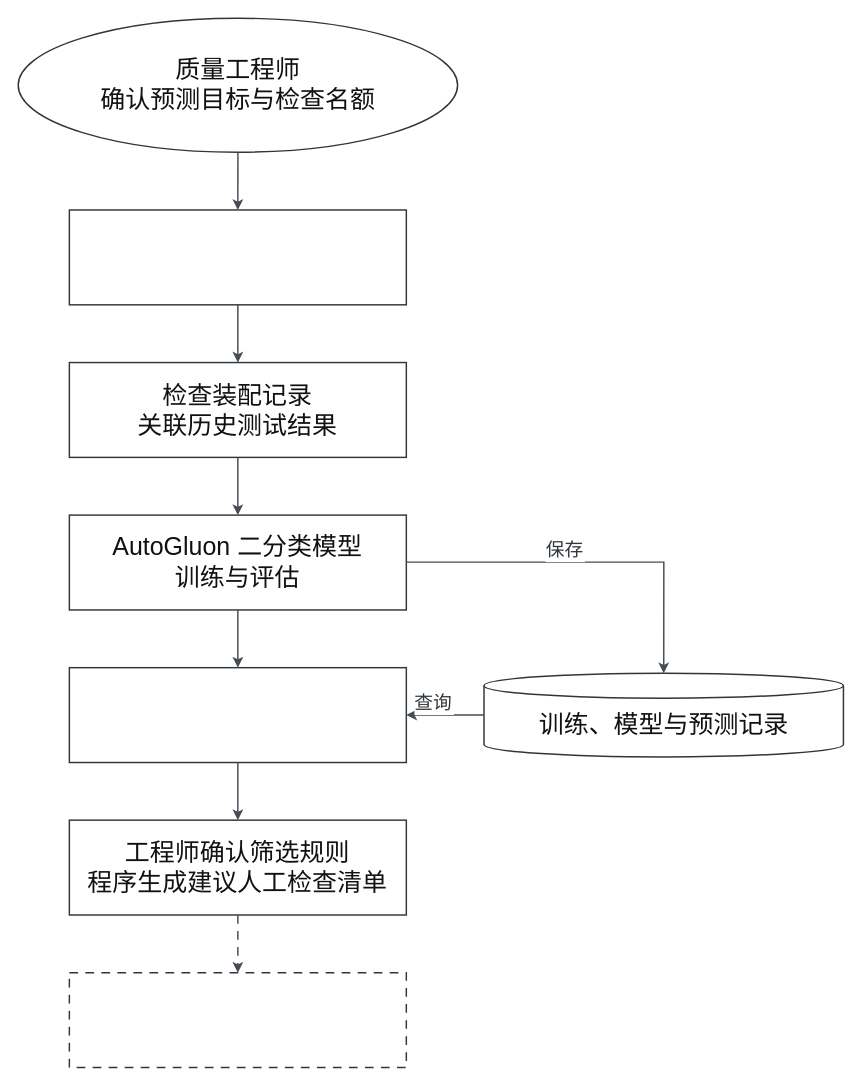
Image size: 862x1087. Some labels were removed from this diagram. The shapes that lost their labels are listed below. From the top down, each one's centre as x and y in pixels, then its label:
(x=237, y=257): ML Agent 调用建模工具与查询结果
(x=237, y=714): 为待测试发动机评分 输出不通过的风险分数
(x=237, y=1019): 现场试点 人员检查发动机并记录结果
